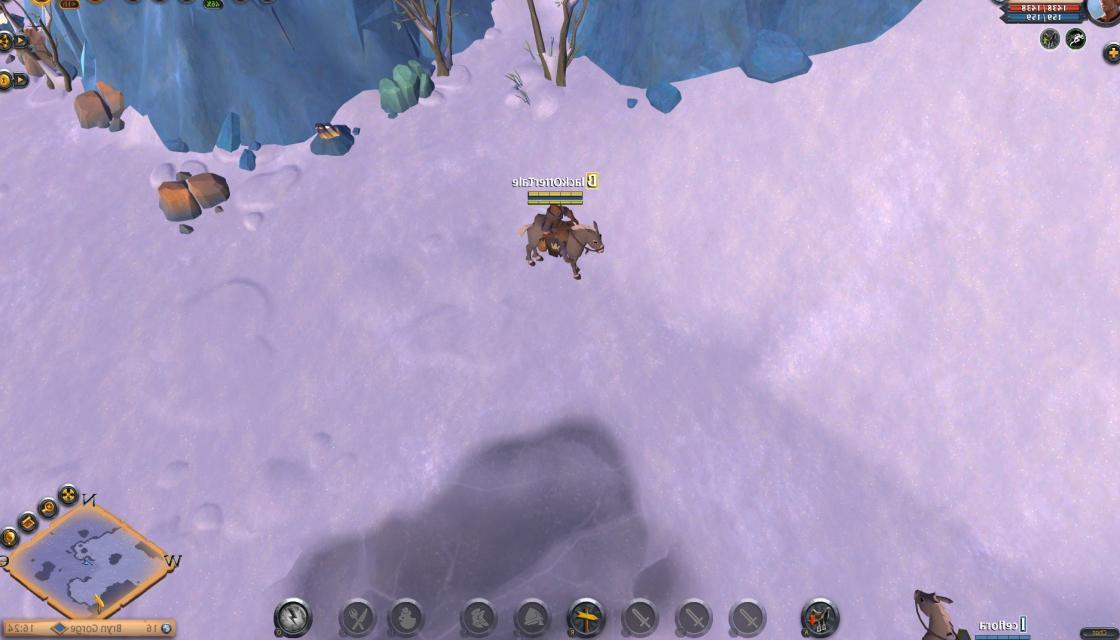copperore: (308, 117, 355, 158)
limestone: (154, 170, 230, 228), (71, 76, 130, 132)
sandstone: (376, 60, 435, 121)
